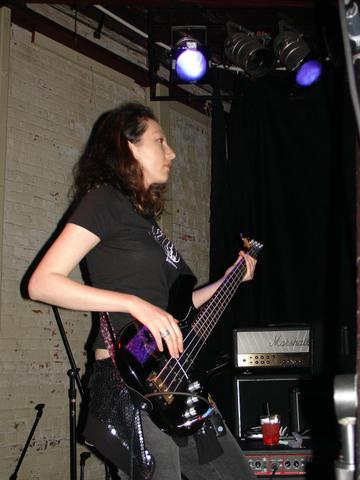person: (27, 104, 258, 480)
